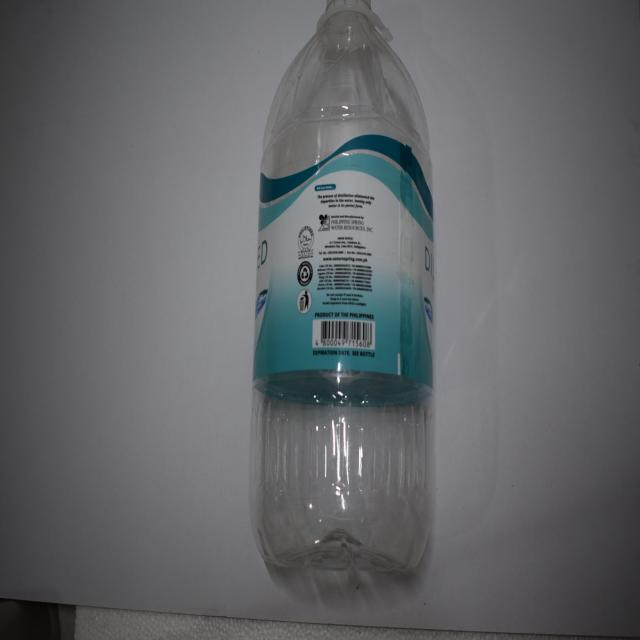plastic: (244, 0, 438, 586)
